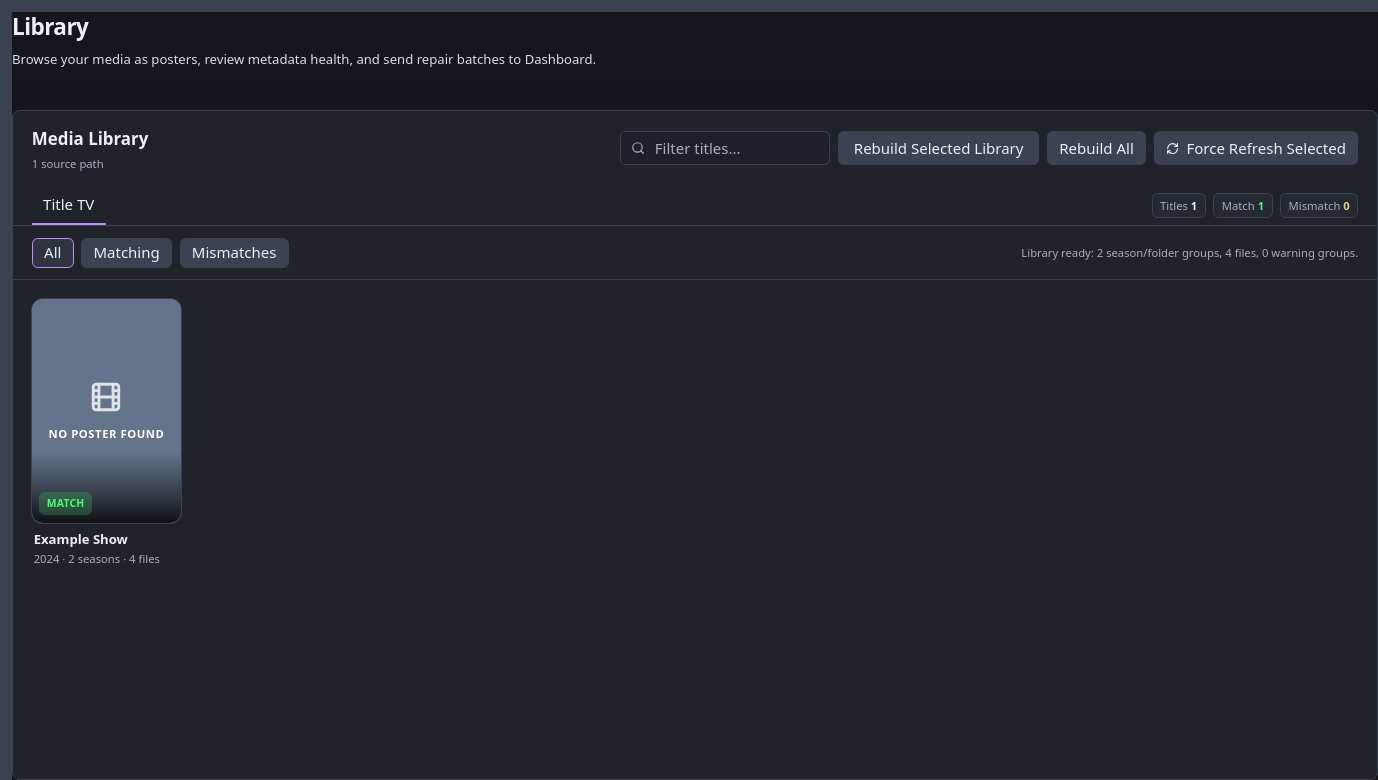
Library poster workflow › rebuilds only the right-clicked title and refreshes its cached audit
Right-click the button with aria-label "open example show library details" at (106, 432), box [32,299,181,566]
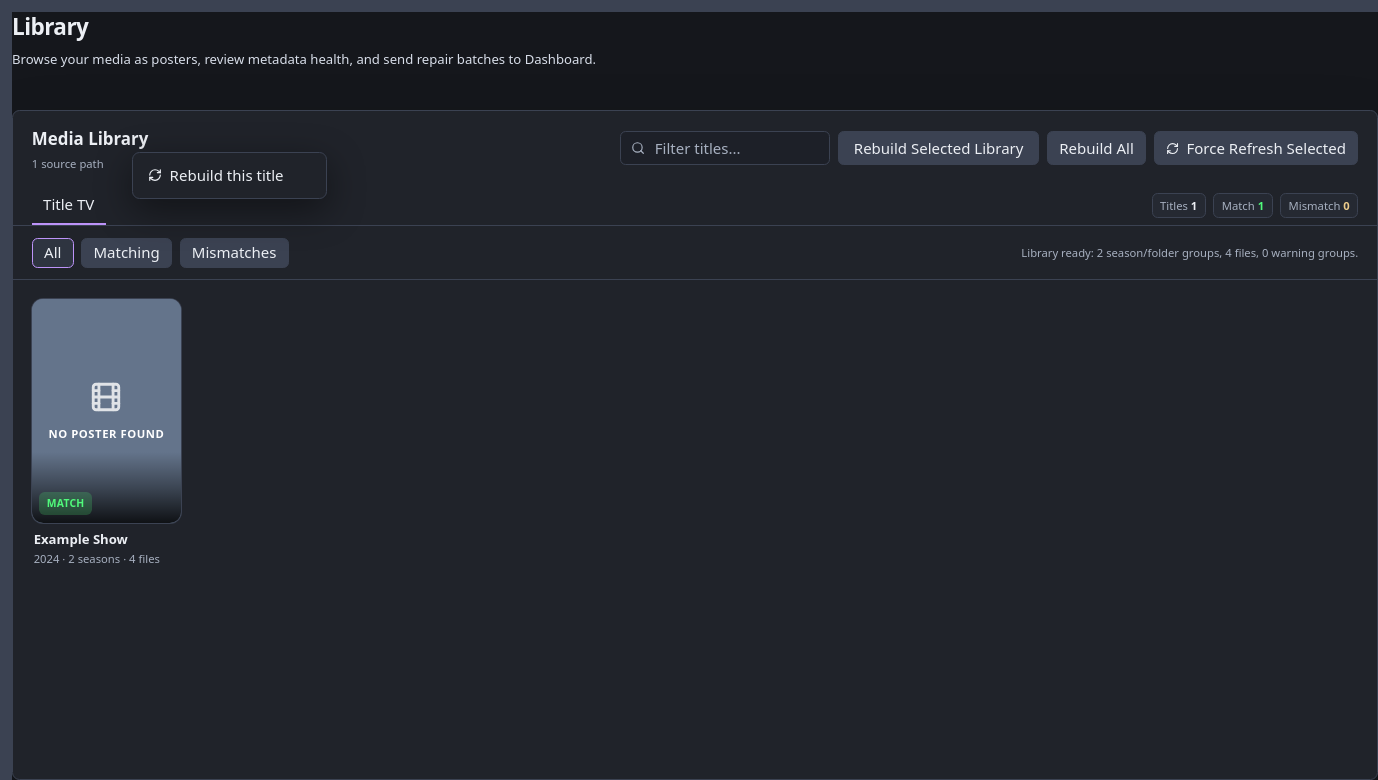
Click the menu item "Rebuild this title" at (230, 176), box [137,157,323,194]
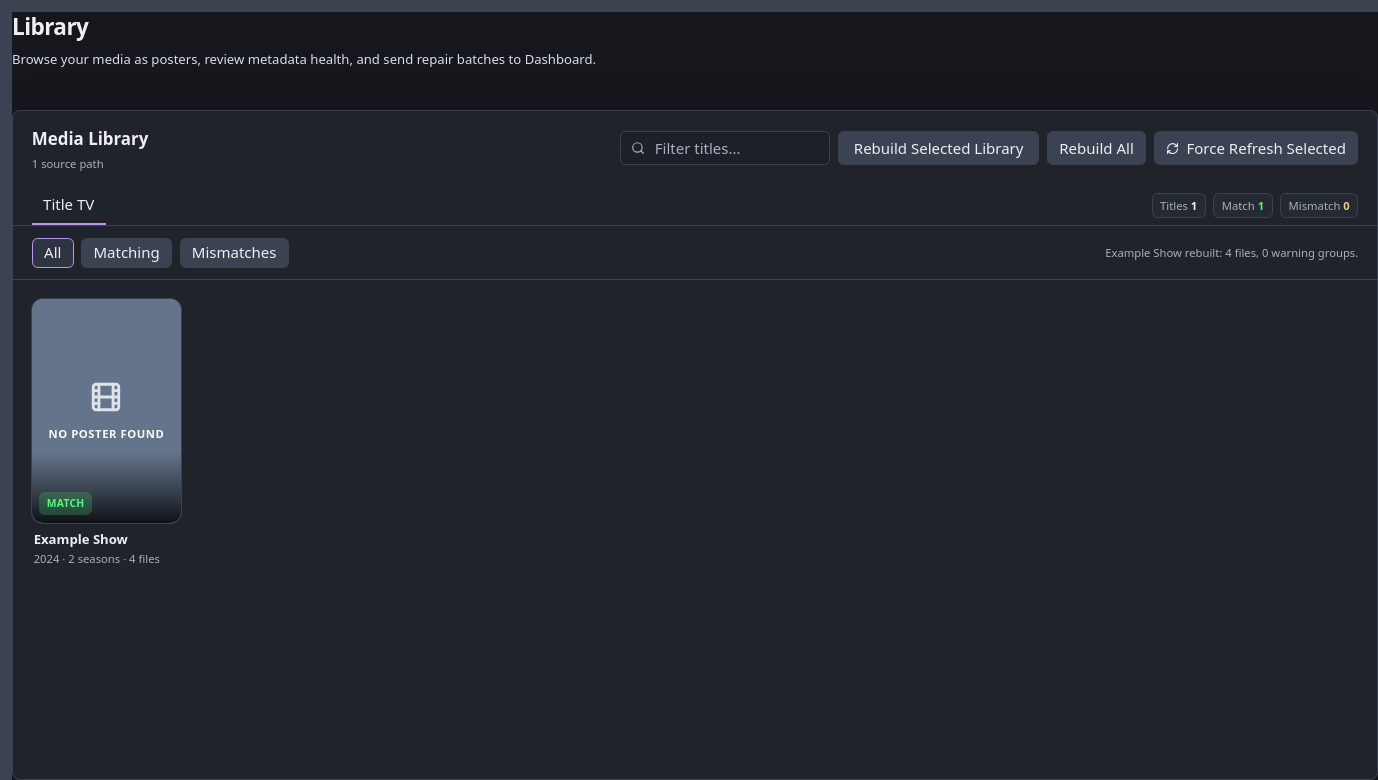
Now the text "Example Show rebuilt: 4 files, 0 warning groups." is shown, box [1105,245,1358,260]
